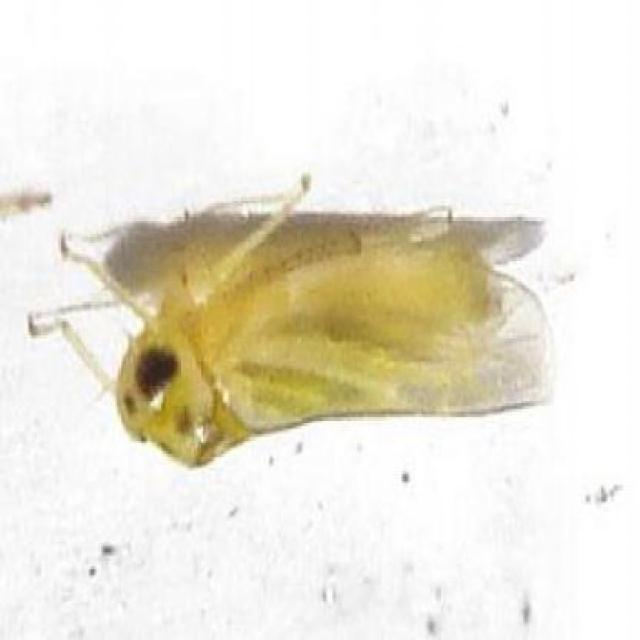green-leafhopper: (96, 196, 552, 449)
